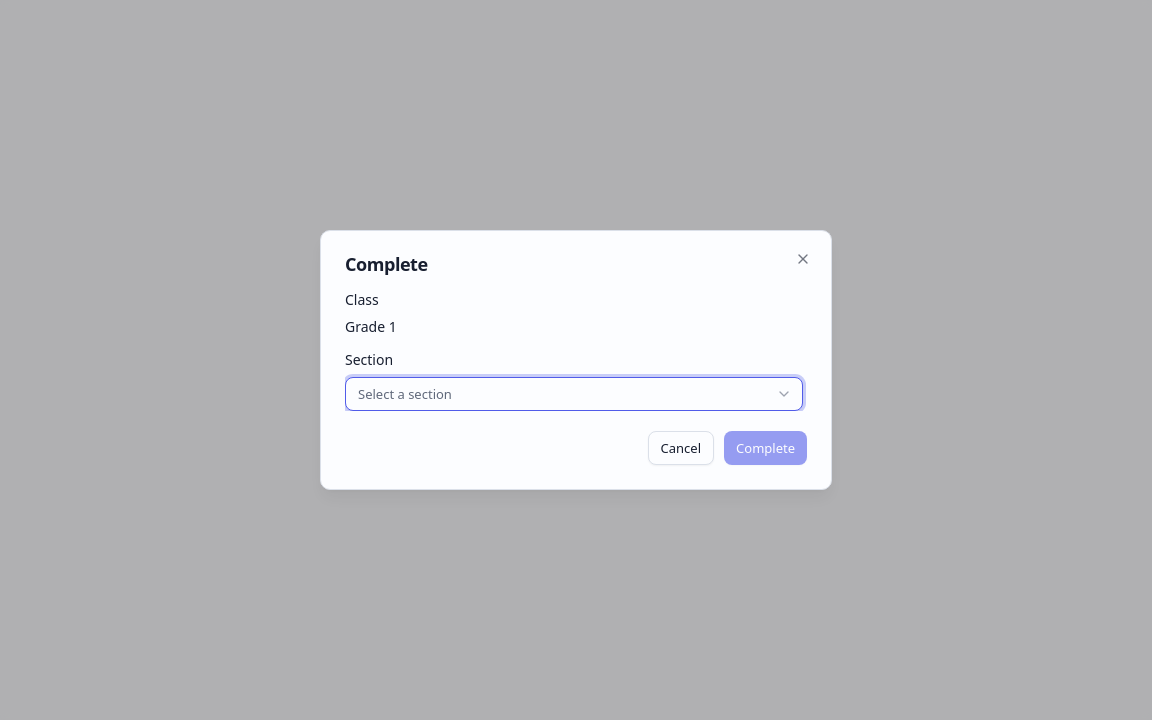
Test: CompleteTransferDialog › inter_campus with an active enrollment: requires a section, scoped to the destination campus
Expected: the button "Complete" is disabled, [724,431,807,465]
Expected: the text "Grade 1" is shown, [345,317,397,336]
Click the dropdown labelled "Select a section". click: point(405, 394)
box: [345,377,803,411]
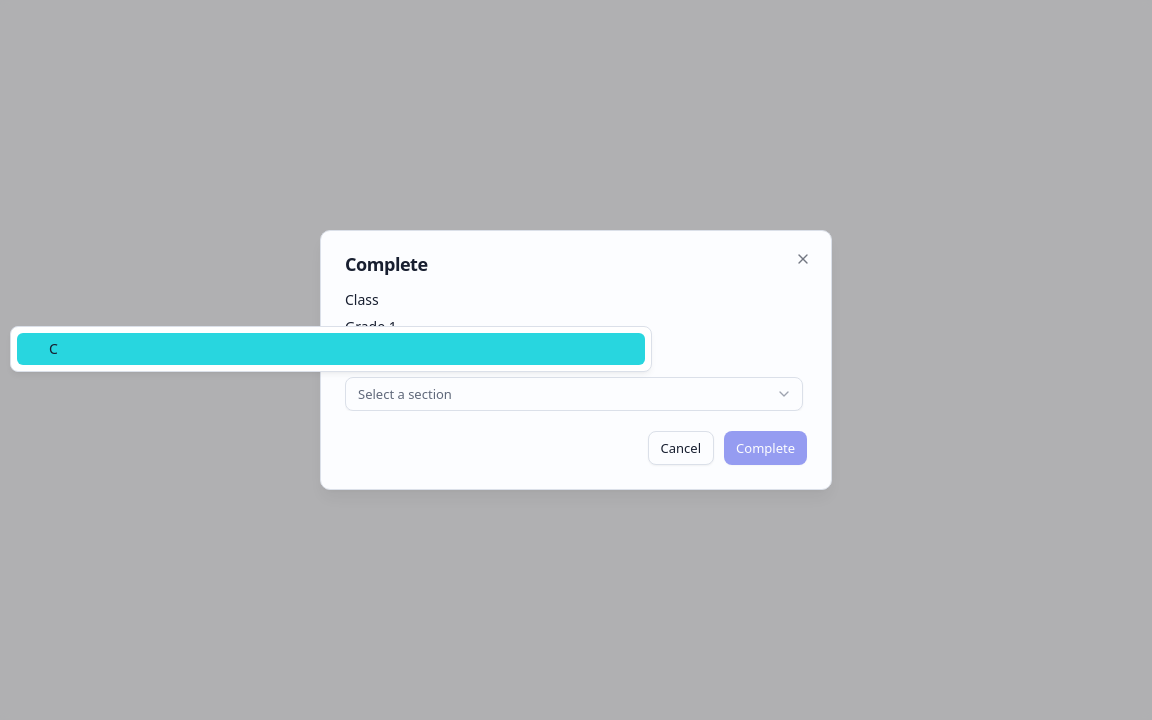
Result: the option "C" is shown at [17,333,645,365]
